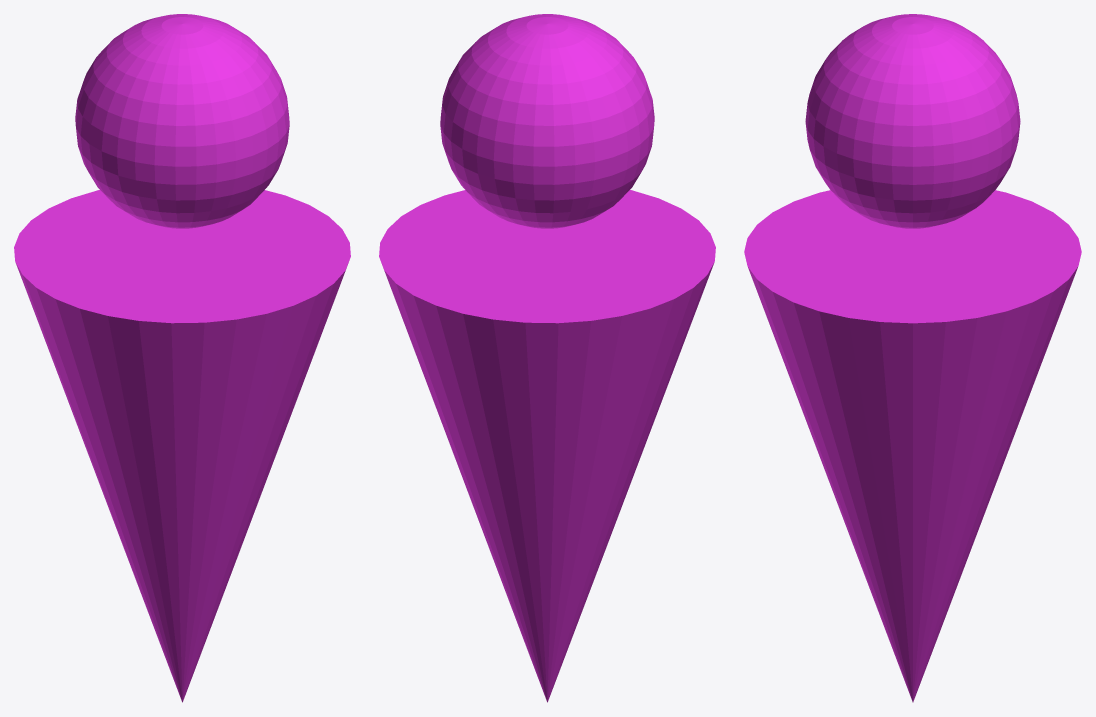
File: Player_Model.fbx
The picture shows the model from 3 angles, left to right: view 1: azimuth 30°, elevation 25°; view 2: azimuth 150°, elevation 25°; view 3: azimuth 270°, elevation 25°; orthographic projection.
Parts seen in each view (by area): view 1: Person; view 2: Person; view 3: Person.
Boxes of the visible parts, left/top/right/bottom form: Person: left=14, top=14, right=350, bottom=702; Person: left=379, top=14, right=715, bottom=702; Person: left=744, top=14, right=1081, bottom=702.
Size of the model in its own units: 85.91 by 191 by 85.91.
